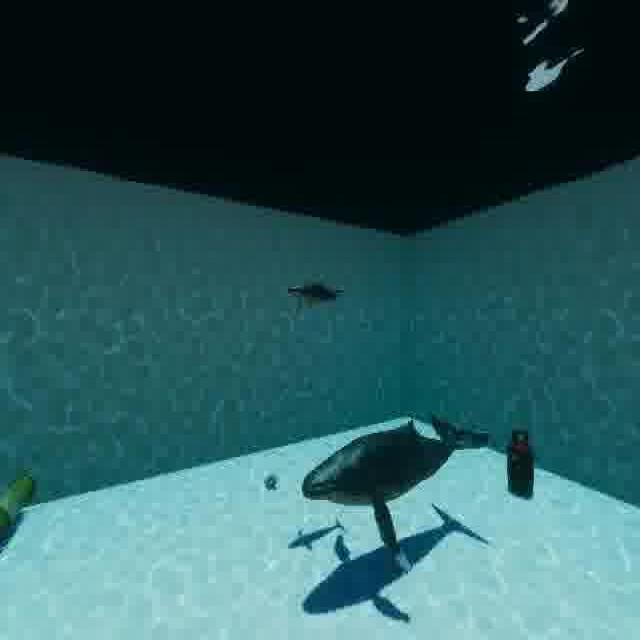Cylinder: (502, 422, 540, 508)
Pipe: (0, 450, 39, 556)
Shell: (258, 462, 285, 503)
Whale: (296, 399, 497, 581), (281, 273, 355, 323)
